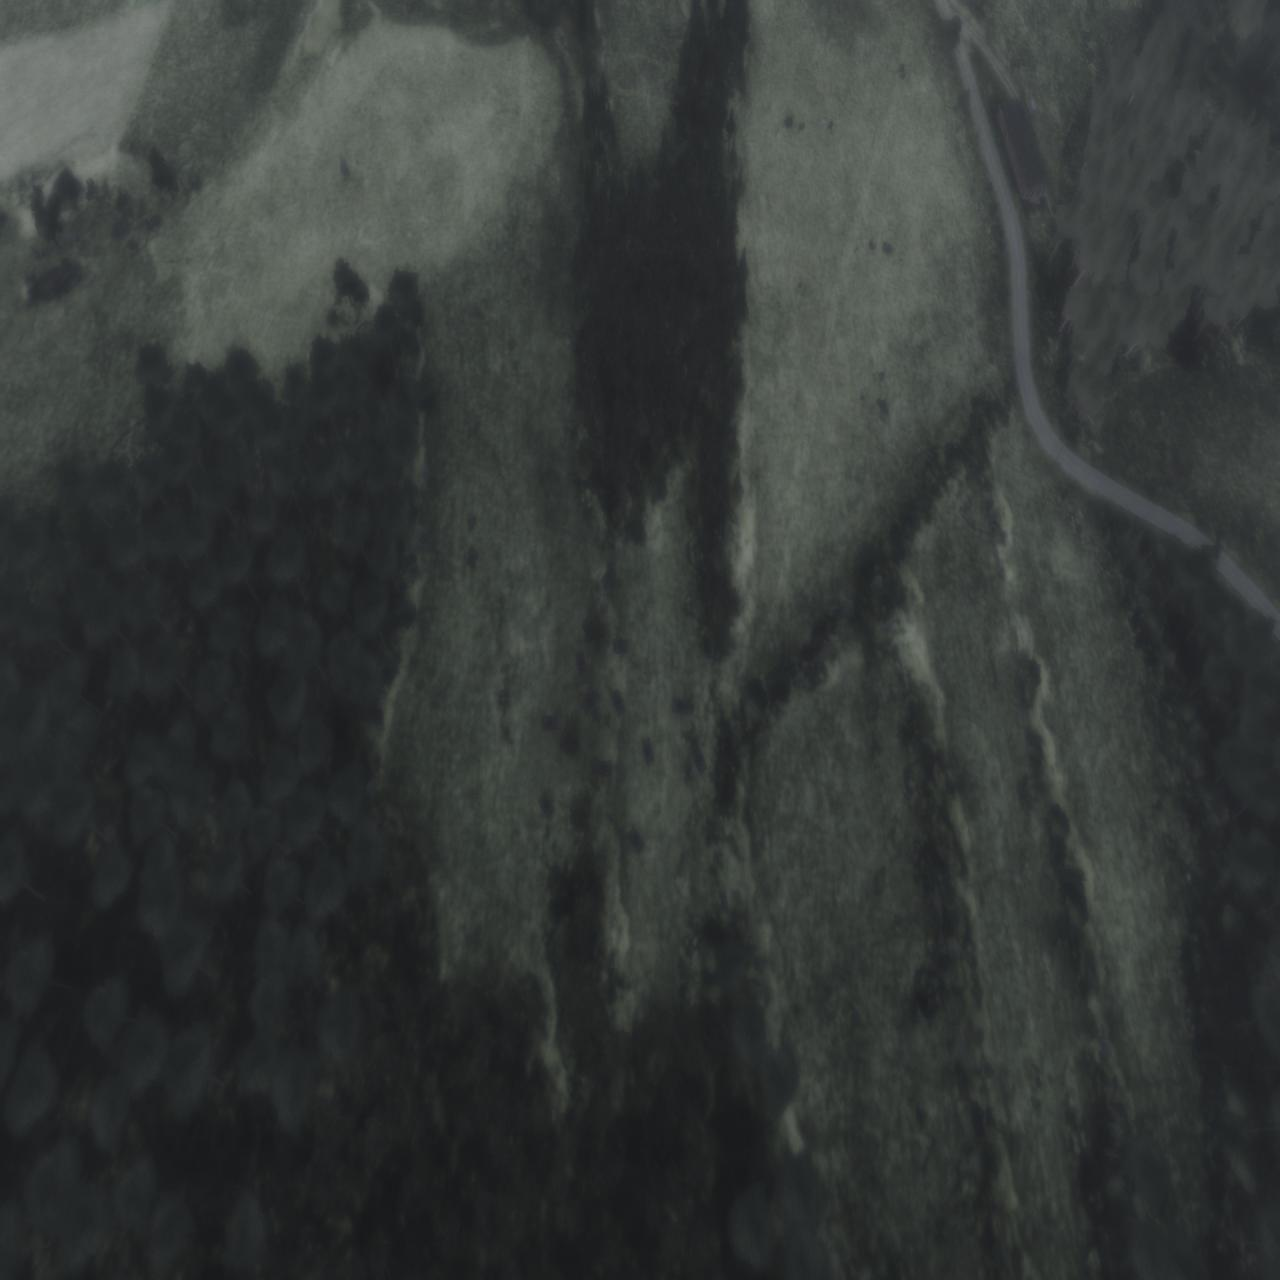MIL_Veh: (537, 787, 557, 818), (610, 682, 626, 717), (692, 743, 708, 776), (572, 646, 588, 674), (580, 689, 599, 713), (640, 735, 654, 765), (628, 826, 645, 852), (670, 693, 688, 716), (539, 710, 558, 731), (611, 636, 631, 654), (597, 756, 613, 775)
